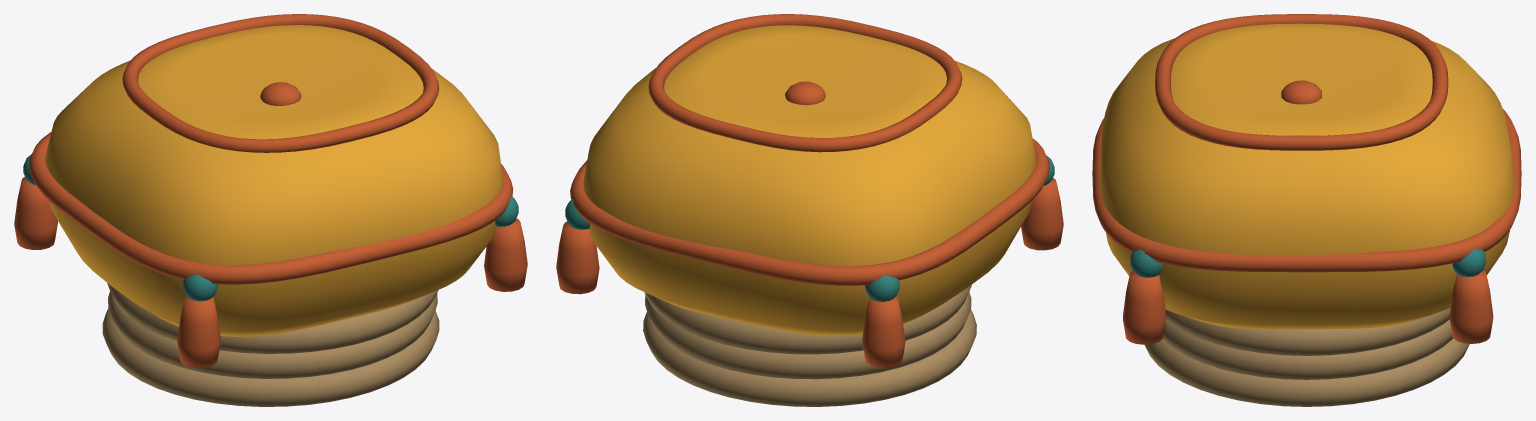
The model's file is deco_seat_pillow.fbx.
The picture shows the model from 3 angles, left to right: view 1: azimuth 30°, elevation 25°; view 2: azimuth 150°, elevation 25°; view 3: azimuth 270°, elevation 25°; orthographic projection. The views are drawn at different scales.
Visible parts, largest first — view 1: Seat_Pillow_Cushion, Seat_Pillow_PipingSide, Seat_Pillow_RopeCoil1, Seat_Pillow_PipingTop, Seat_Pillow_RopeCoil2, Seat_Pillow_RopeCoil3, Seat_Pillow_TasselSkirt3, Seat_Pillow_TasselSkirt4, Seat_Pillow_TasselSkirt2, Seat_Pillow_Button, Seat_Pillow_TasselHead3; view 2: Seat_Pillow_Cushion, Seat_Pillow_PipingSide, Seat_Pillow_RopeCoil1, Seat_Pillow_PipingTop, Seat_Pillow_RopeCoil2, Seat_Pillow_RopeCoil3, Seat_Pillow_TasselSkirt2, Seat_Pillow_TasselSkirt1, Seat_Pillow_TasselSkirt3, Seat_Pillow_Button, Seat_Pillow_TasselHead2; view 3: Seat_Pillow_Cushion, Seat_Pillow_PipingSide, Seat_Pillow_PipingTop, Seat_Pillow_RopeCoil1, Seat_Pillow_RopeCoil2, Seat_Pillow_RopeCoil3, Seat_Pillow_TasselSkirt1, Seat_Pillow_TasselSkirt4, Seat_Pillow_Button, Seat_Pillow_TasselHead1, Seat_Pillow_TasselHead4.
Part boxes in pixels (x1,y1,x2,y2): Seat_Pillow_Cushion: [45, 25, 502, 336]; Seat_Pillow_PipingSide: [28, 132, 513, 284]; Seat_Pillow_RopeCoil1: [102, 308, 439, 406]; Seat_Pillow_PipingTop: [122, 14, 439, 152]; Seat_Pillow_RopeCoil2: [108, 291, 437, 378]; Seat_Pillow_RopeCoil3: [107, 283, 438, 353]; Seat_Pillow_TasselSkirt3: [177, 295, 220, 367]; Seat_Pillow_TasselSkirt4: [484, 218, 527, 291]; Seat_Pillow_TasselSkirt2: [14, 177, 57, 249]; Seat_Pillow_Button: [260, 82, 301, 105]; Seat_Pillow_TasselHead3: [183, 274, 217, 301]; Seat_Pillow_Cushion: [583, 25, 1036, 335]; Seat_Pillow_PipingSide: [570, 138, 1049, 285]; Seat_Pillow_RopeCoil1: [643, 309, 976, 406]; Seat_Pillow_PipingTop: [648, 14, 962, 152]; Seat_Pillow_RopeCoil2: [645, 292, 971, 379]; Seat_Pillow_RopeCoil3: [644, 285, 971, 354]; Seat_Pillow_TasselSkirt2: [862, 296, 905, 367]; Seat_Pillow_TasselSkirt1: [556, 221, 599, 294]; Seat_Pillow_TasselSkirt3: [1021, 178, 1063, 250]; Seat_Pillow_Button: [785, 81, 825, 105]; Seat_Pillow_TasselHead2: [865, 275, 899, 301]; Seat_Pillow_Cushion: [1099, 23, 1514, 329]; Seat_Pillow_PipingSide: [1092, 109, 1521, 272]; Seat_Pillow_PipingTop: [1155, 14, 1448, 150]; Seat_Pillow_RopeCoil1: [1144, 338, 1469, 406]; Seat_Pillow_RopeCoil2: [1162, 319, 1453, 379]; Seat_Pillow_RopeCoil3: [1165, 308, 1450, 355]; Seat_Pillow_TasselSkirt1: [1449, 270, 1493, 343]; Seat_Pillow_TasselSkirt4: [1123, 271, 1166, 344]; Seat_Pillow_Button: [1281, 80, 1321, 104]; Seat_Pillow_TasselHead1: [1452, 249, 1485, 276]; Seat_Pillow_TasselHead4: [1130, 249, 1162, 277].
Size of the model in its own units: 83 by 56.3 by 81.
